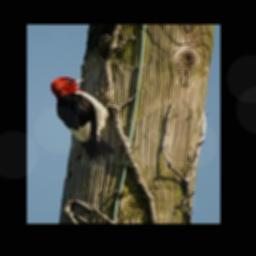Woodpecker: (48, 75, 124, 161)
